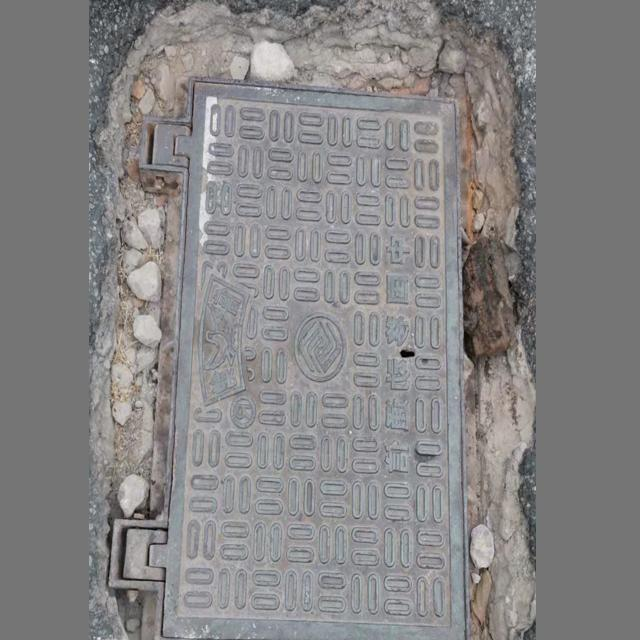circle: (103, 30, 513, 640)
